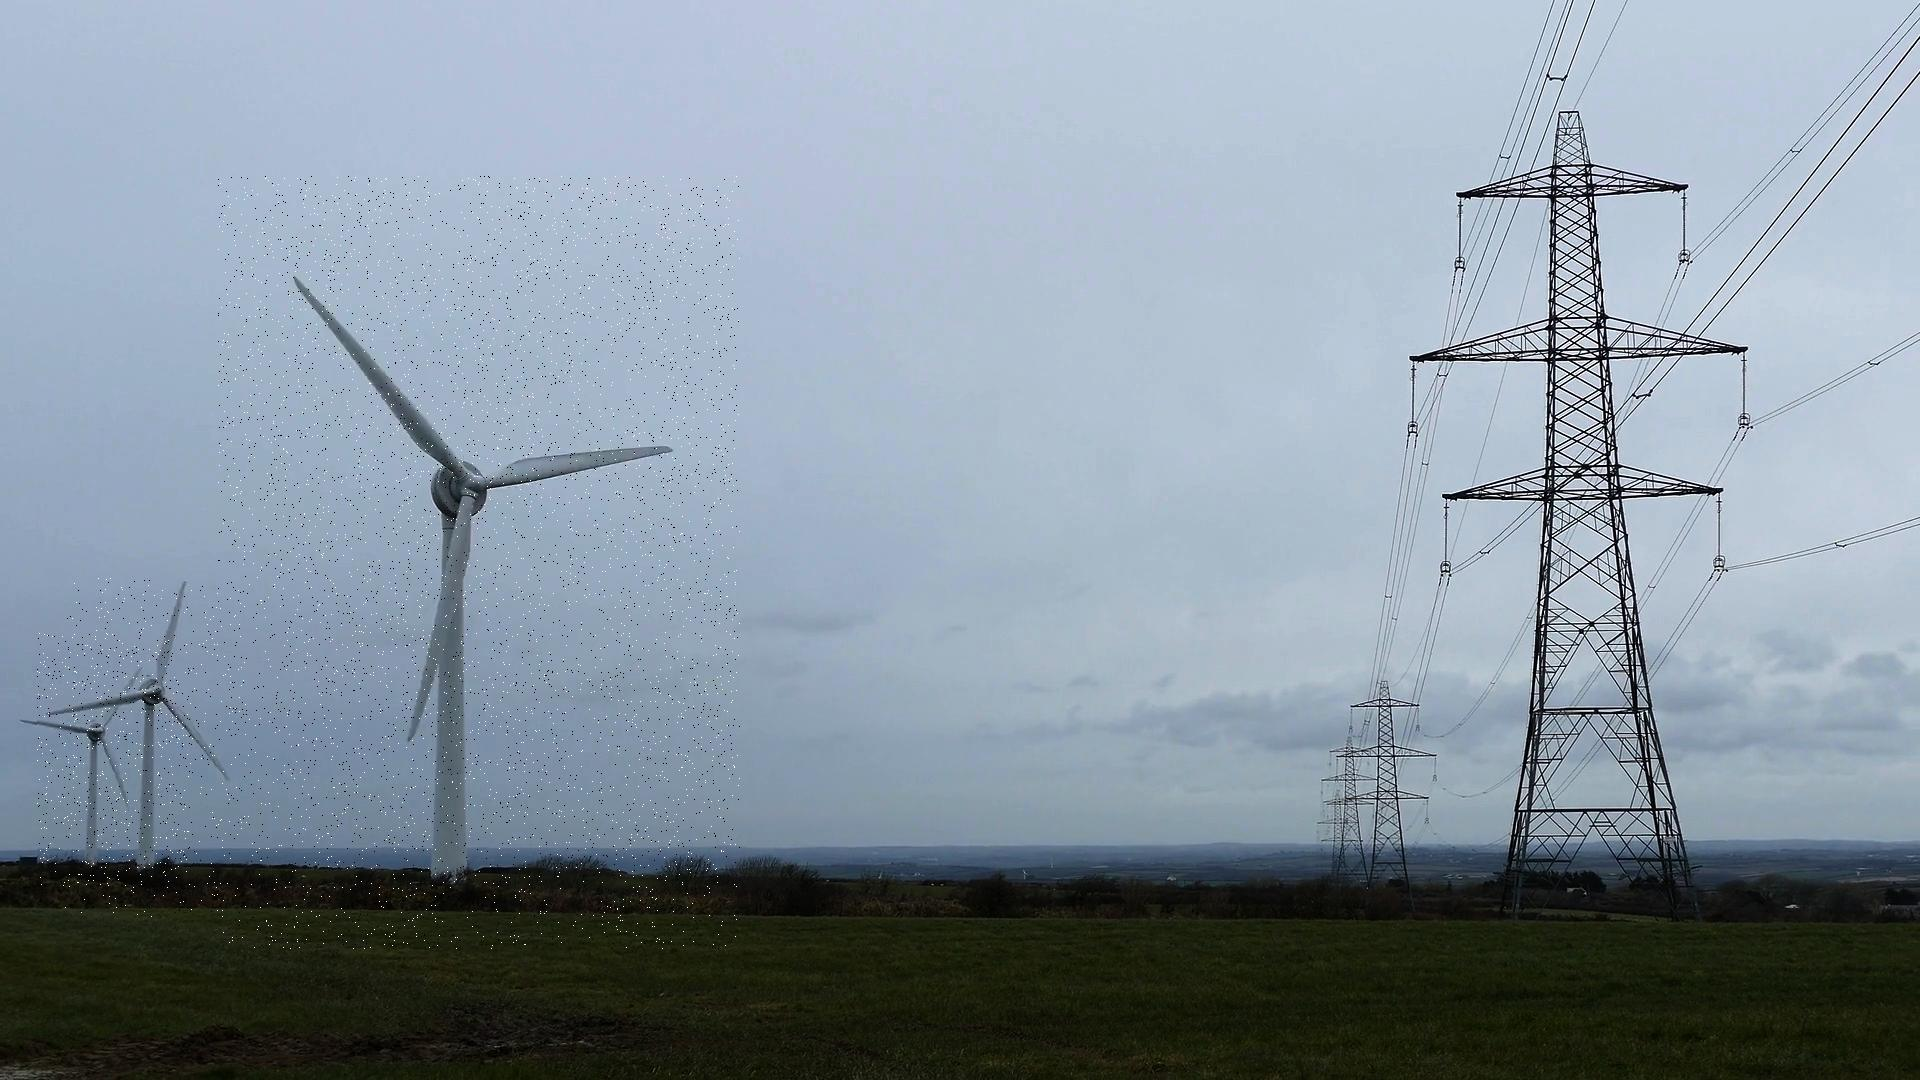cable tower: (1408, 108, 1753, 920), (1332, 675, 1443, 909), (1317, 738, 1385, 887), (1316, 794, 1358, 876)
turbine: (218, 175, 740, 949), (63, 579, 293, 918), (37, 633, 193, 887)
